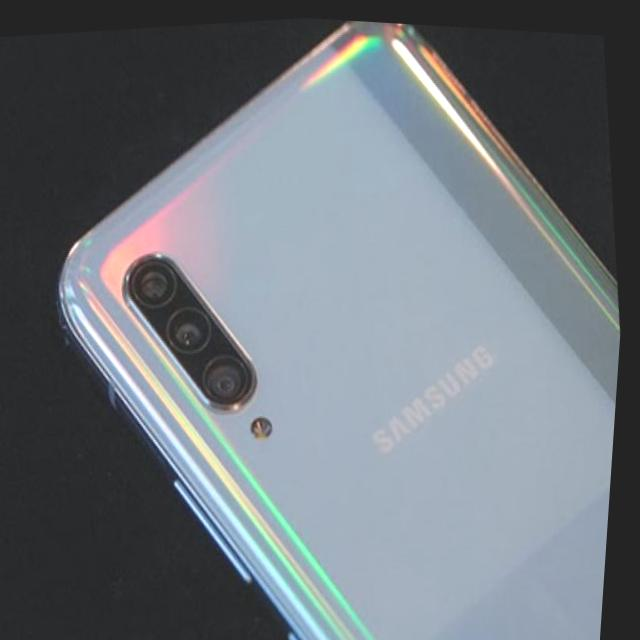Smartphone: (51, 16, 624, 640)
